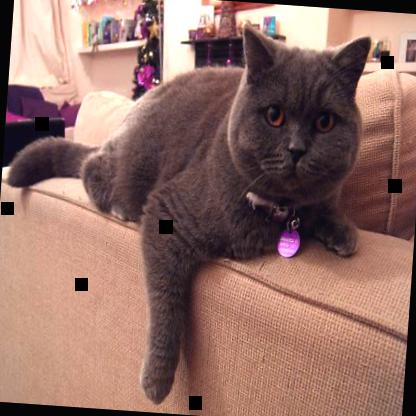cat: (0, 5, 374, 415)
